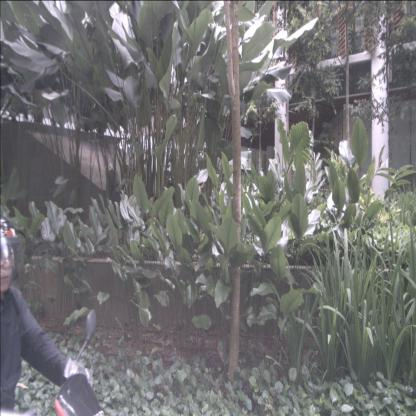vehicle-motorcycle: (0, 213, 107, 415)
